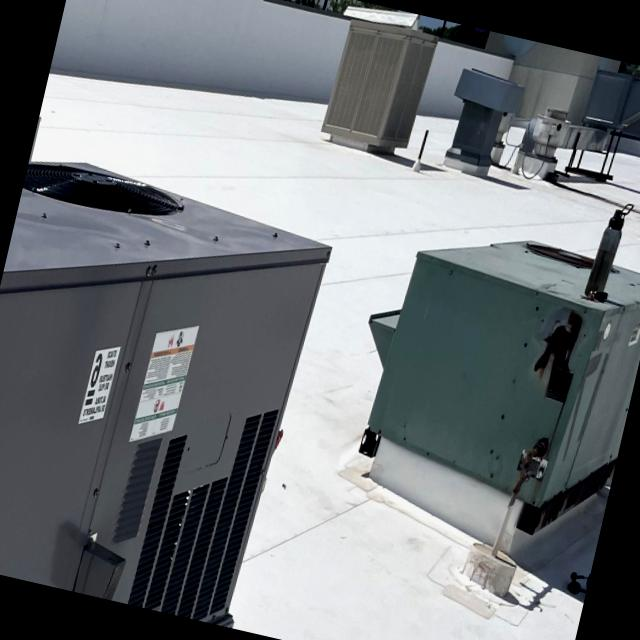RTU: (0, 84, 360, 632), (303, 153, 640, 620)
SPLIT-SYSTEM: (306, 0, 451, 181)
